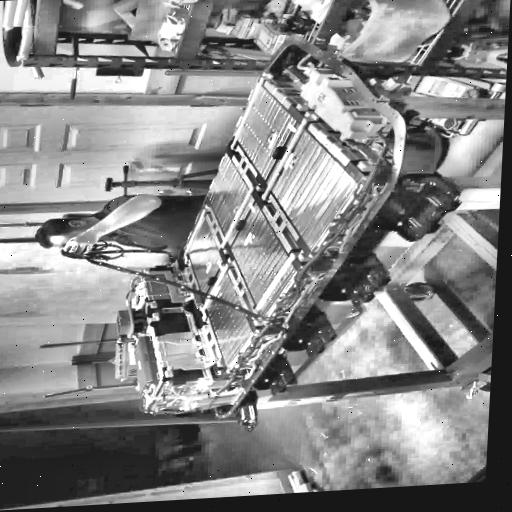battery_module: (266, 123, 361, 252), (230, 202, 297, 317), (234, 83, 296, 180), (204, 262, 254, 367), (207, 152, 255, 246), (184, 209, 222, 297)
bms_unit: (133, 335, 160, 396)
busbar: (260, 110, 319, 202), (248, 249, 308, 325), (228, 71, 274, 152), (219, 182, 264, 253), (142, 266, 203, 308), (199, 257, 235, 321), (164, 356, 224, 377)
connector: (116, 305, 149, 337)
high_volt_cable: (144, 184, 381, 410)
low_volt_cable: (139, 118, 392, 415)
